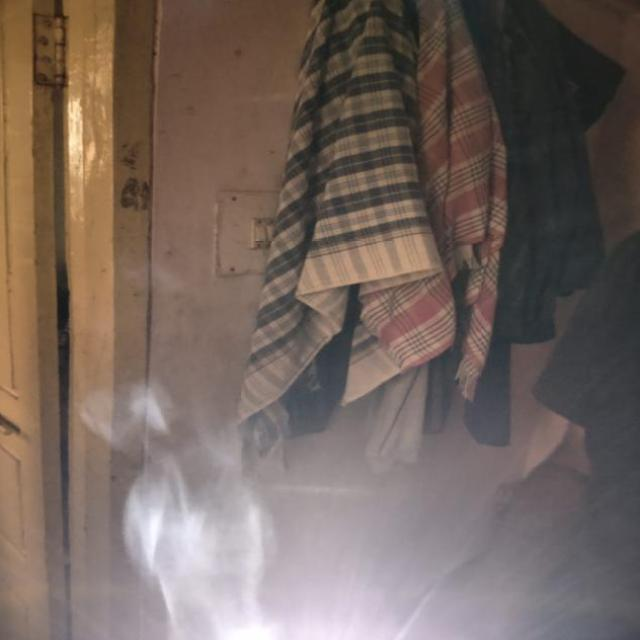fire: (76, 375, 282, 640)
